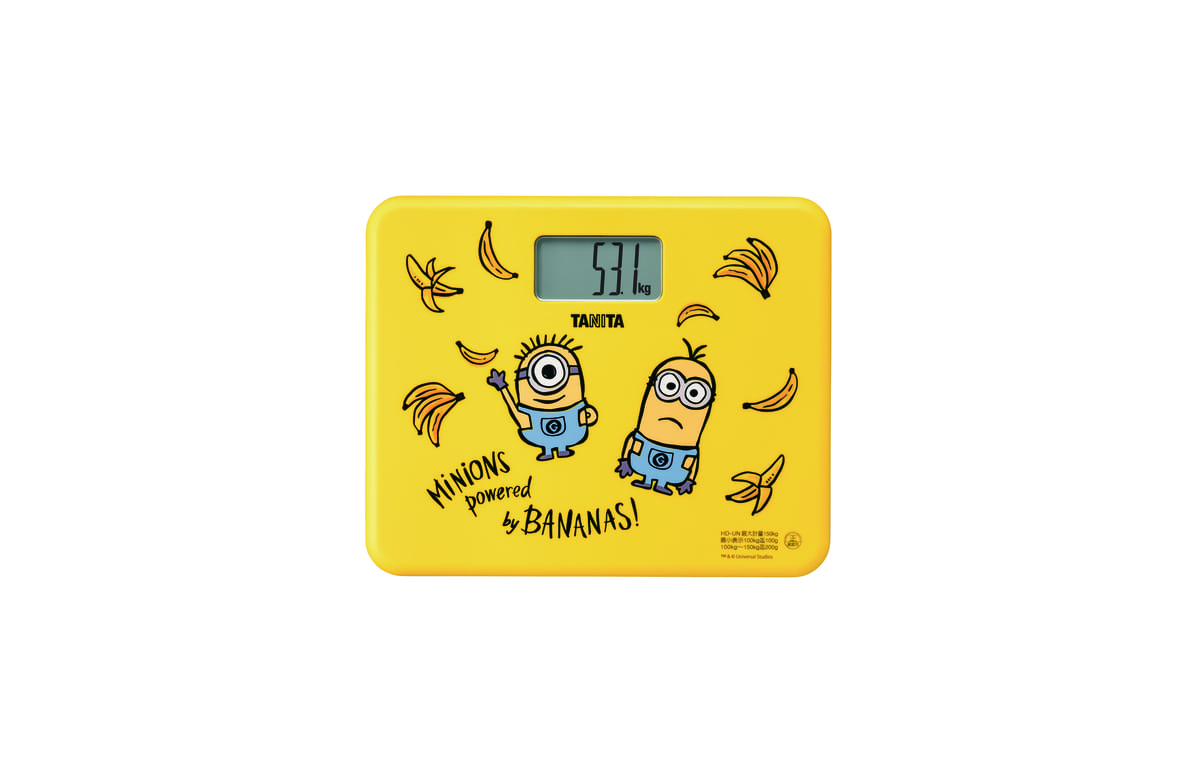LCD: (533, 230, 667, 302)
